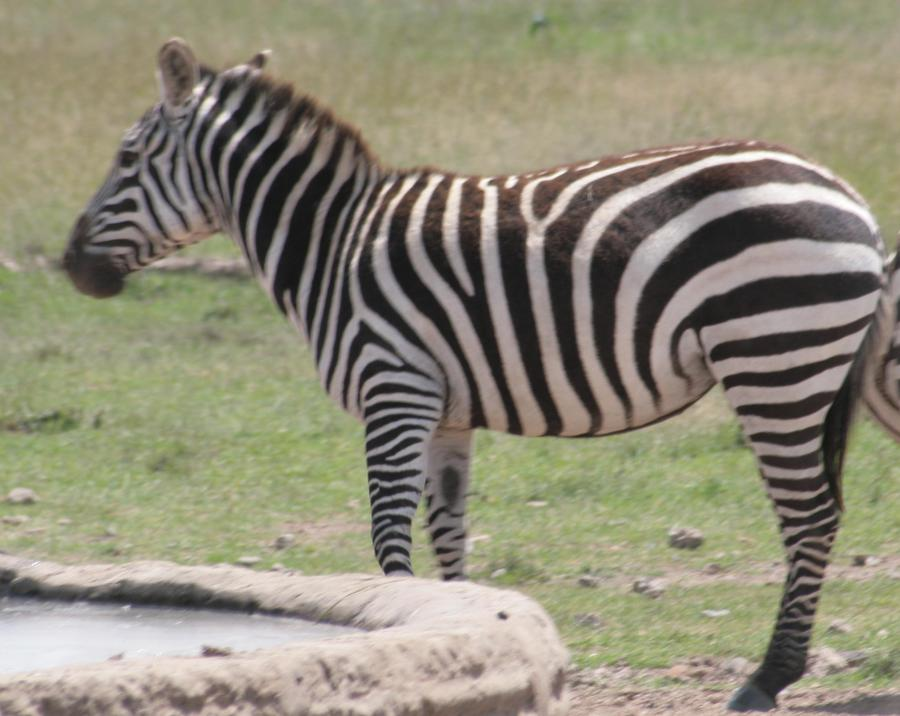zebra_plains: (324, 152, 858, 438)
